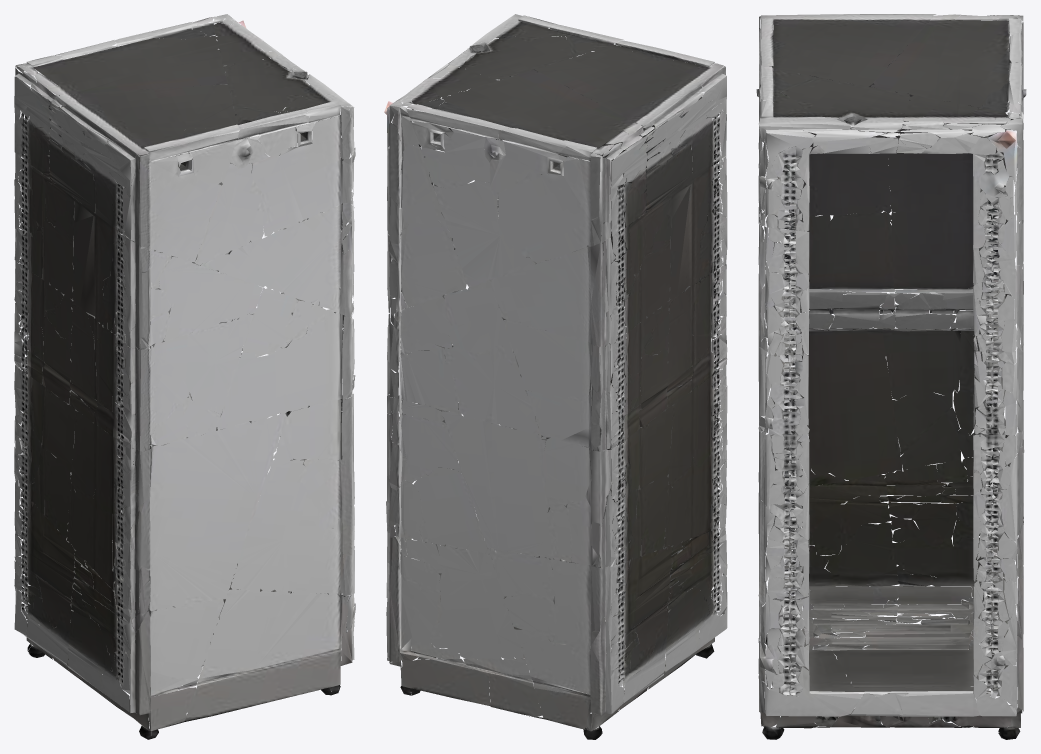
The model's file is server_rack.glb.
The picture shows the model from 3 angles, left to right: view 1: azimuth 30°, elevation 25°; view 2: azimuth 150°, elevation 25°; view 3: azimuth 270°, elevation 25°; orthographic projection. The views are drawn at different scales.
Parts seen in each view (by area): view 1: tripo_node_4744383b-b799-4127-a178-7310f799f9ac; view 2: tripo_node_4744383b-b799-4127-a178-7310f799f9ac; view 3: tripo_node_4744383b-b799-4127-a178-7310f799f9ac.
Part boxes in pixels (<box>): tripo_node_4744383b-b799-4127-a178-7310f799f9ac: <box>14,14,355,739</box>; tripo_node_4744383b-b799-4127-a178-7310f799f9ac: <box>384,14,727,739</box>; tripo_node_4744383b-b799-4127-a178-7310f799f9ac: <box>756,14,1026,739</box>.
Bounding box in the file's own units: 0.3959 × 0.9776 × 0.3839.
1 material, 1 textured.
